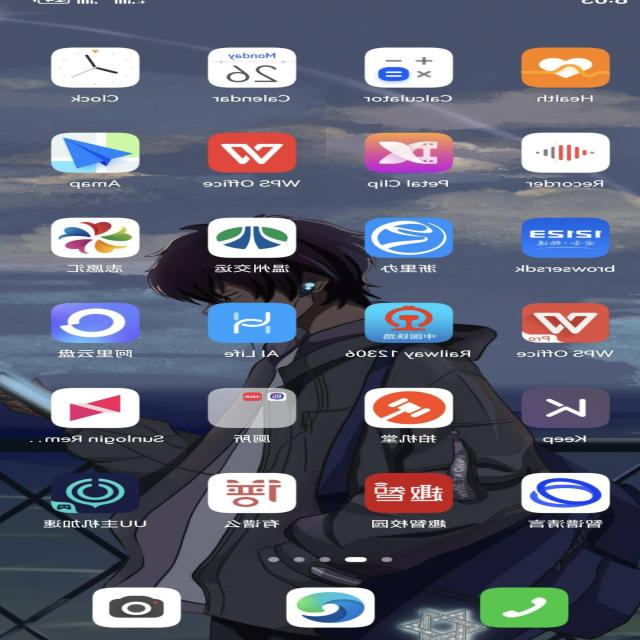Icon: (205, 472, 297, 514), (50, 472, 139, 514), (363, 132, 452, 173), (50, 387, 139, 428), (208, 387, 297, 428), (366, 387, 455, 428), (521, 472, 610, 513), (363, 473, 452, 514), (521, 47, 610, 87), (363, 47, 452, 87), (208, 47, 297, 87), (50, 47, 139, 87), (521, 133, 610, 173), (208, 133, 297, 173), (50, 133, 139, 173), (50, 218, 139, 258), (208, 218, 297, 258), (363, 218, 452, 258), (521, 218, 610, 258), (521, 303, 610, 343), (363, 303, 452, 343), (208, 303, 297, 343), (50, 303, 139, 343), (93, 587, 182, 627), (286, 587, 375, 627), (481, 587, 570, 627), (521, 389, 610, 428), (111, 139, 111, 139)
